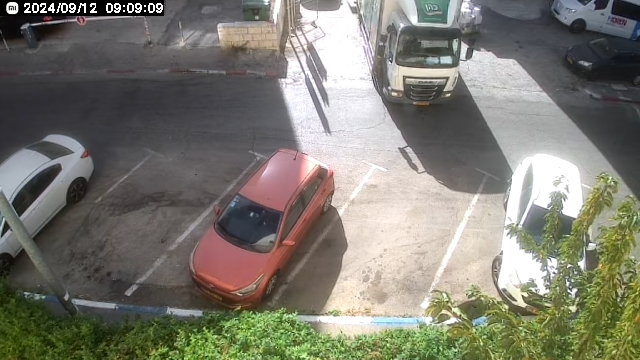empty: (337, 152, 490, 311), (98, 148, 184, 301)
